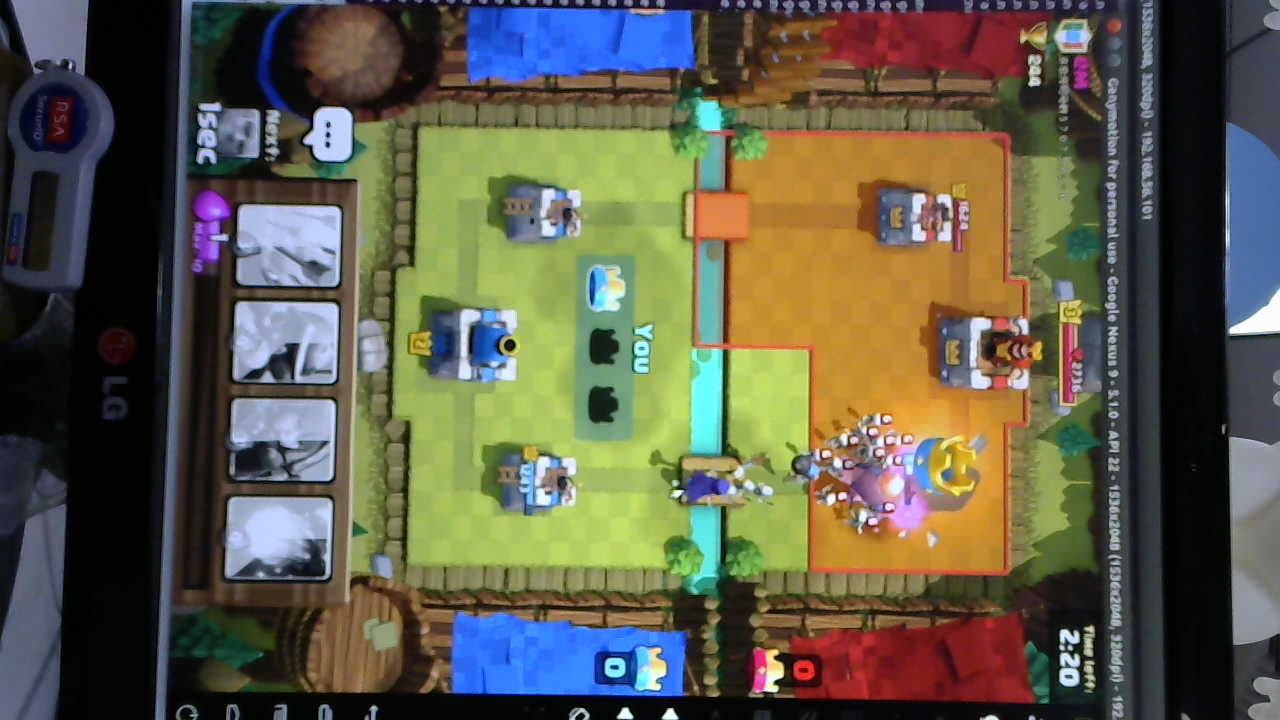arena: (501, 181, 585, 244), (502, 448, 582, 513)
bomb: (782, 454, 821, 483)
earena: (871, 187, 953, 252)
eking: (934, 314, 1041, 390)
giant: (855, 452, 903, 535)
king: (429, 302, 524, 389)
skeletonarmy: (819, 414, 921, 525)
witch: (679, 470, 728, 507)
